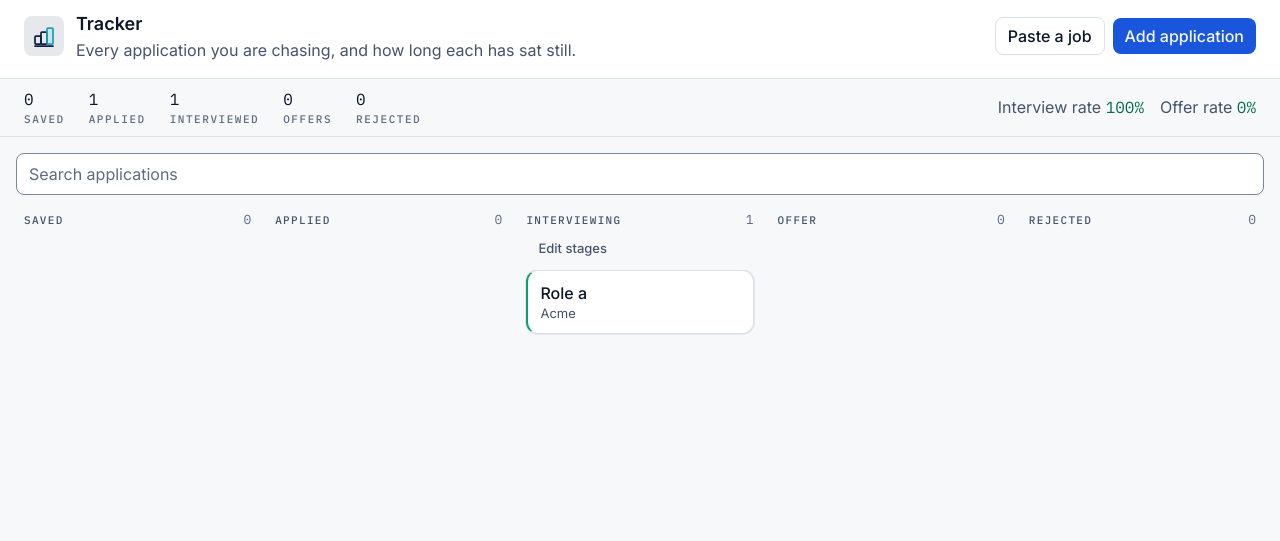
Test: every column header is title, then count, and nothing else (L-332) › the moved control still opens the same stages editor
Expected: the element with test id "tracker-column-interviewing" is shown, [518, 202, 762, 342]
Click the button with test id "tracker-edit-substages" at [573, 250], box [526, 234, 619, 264]
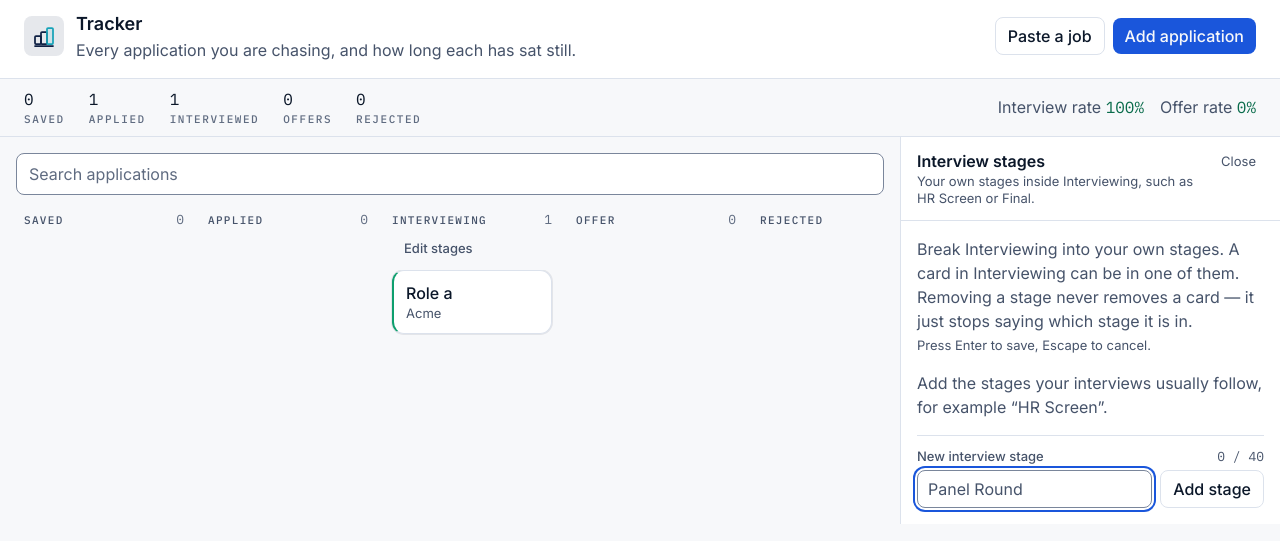
Result: the element with test id "substage-editor" is shown at [917, 238, 1264, 508]
